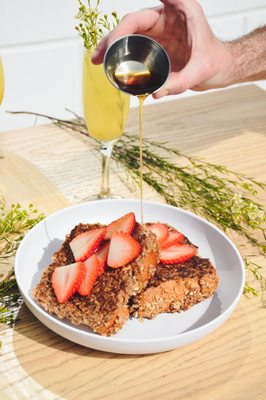curry: (2, 26, 265, 393)
sandwich: (102, 34, 170, 200), (81, 43, 128, 200)
